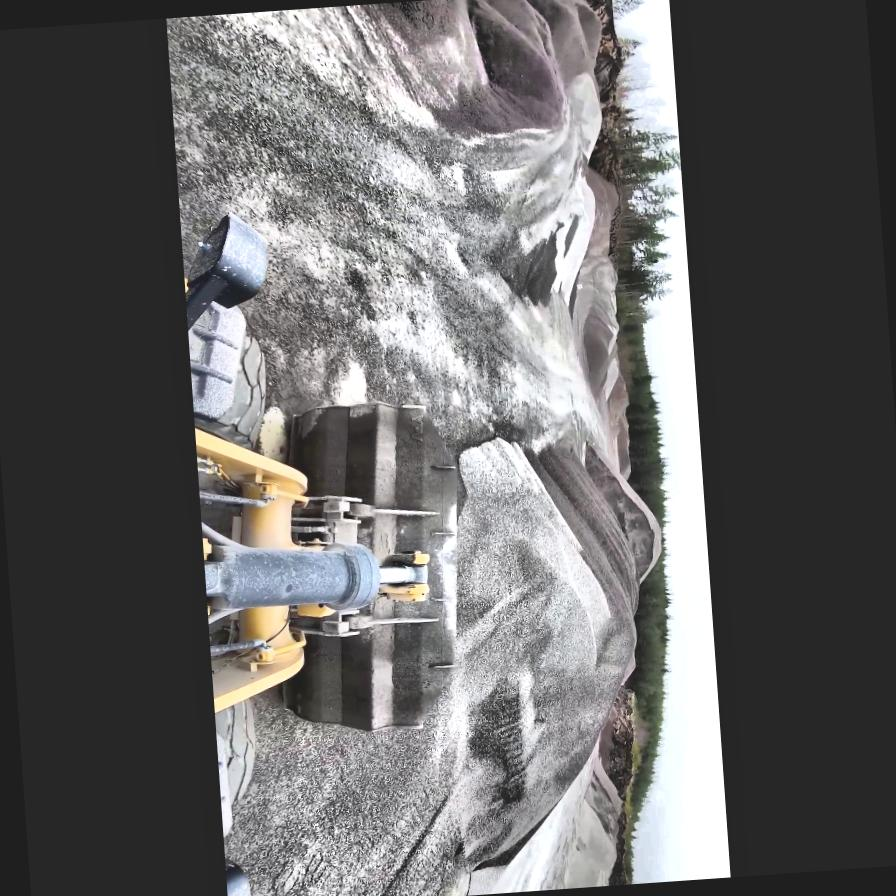anchor: (376, 550, 432, 606)
pile of gravel: (411, 440, 661, 873), (423, 0, 634, 329), (562, 172, 632, 413), (580, 432, 666, 592), (496, 0, 609, 110), (542, 765, 624, 890), (606, 370, 635, 468)
